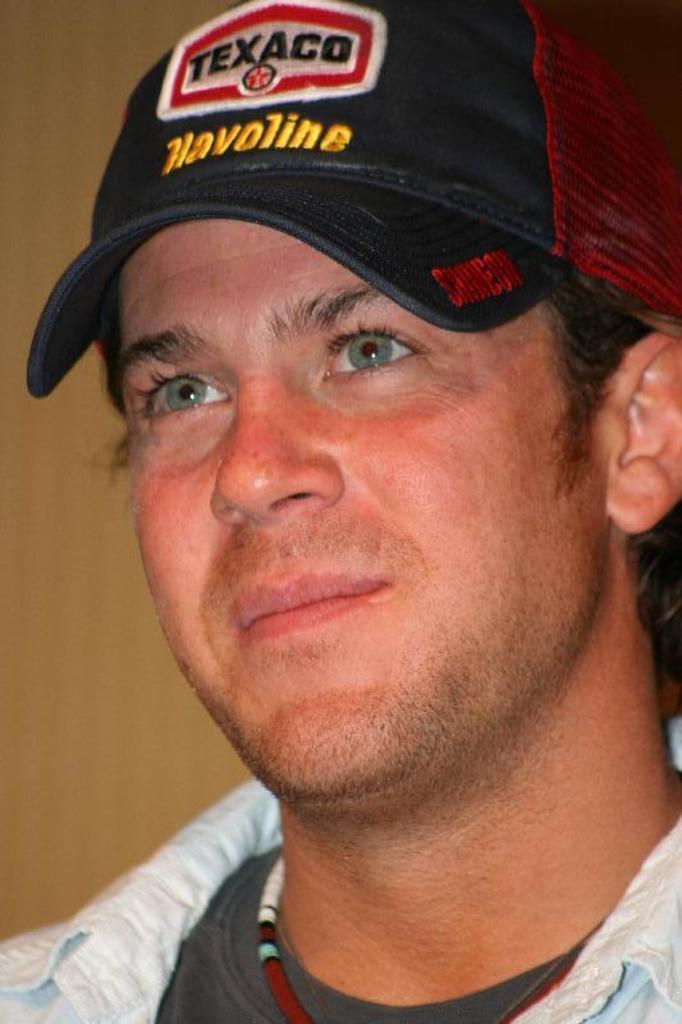Hat: (24, 0, 680, 399)
